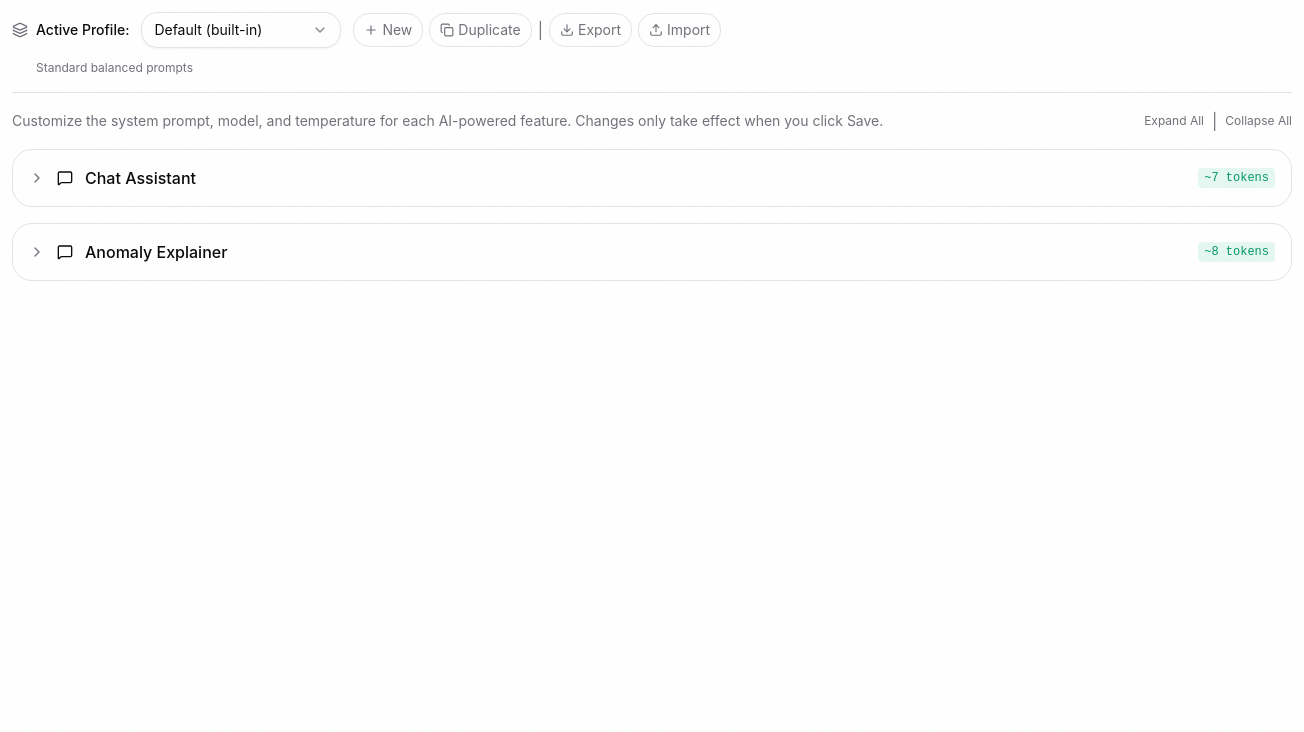
Scenario: AiPromptsTab › opens New Profile dialog on click
Click the button "New" at (388, 30), box 353,13 -> 423,47
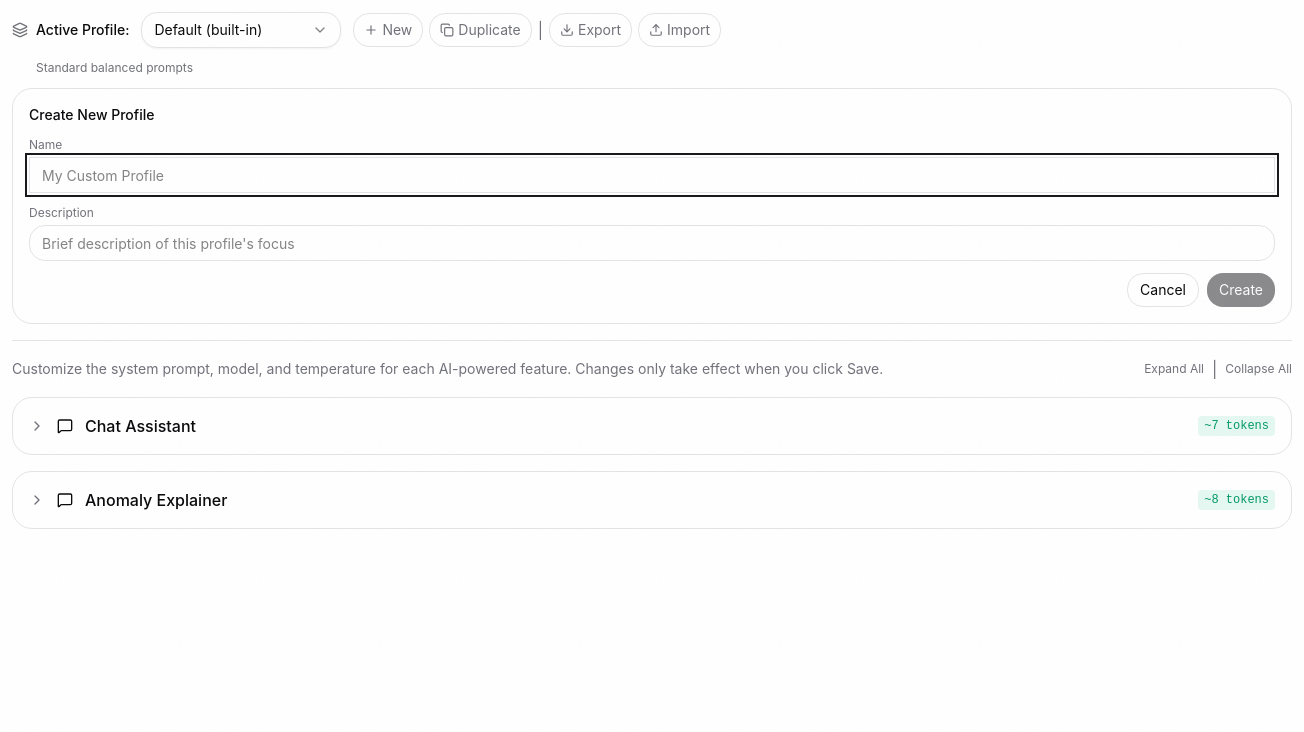
Expected: the heading "Create New Profile" is shown, 29,106 -> 154,123
Expected: the field with placeholder "My Custom Profile" is shown, 29,157 -> 1275,193
